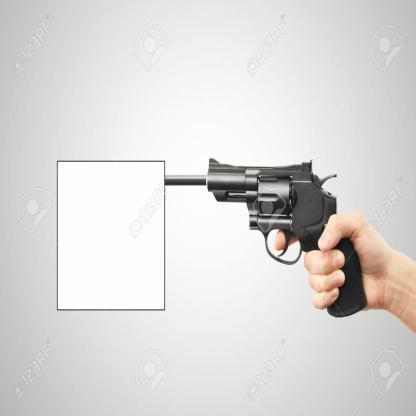gun: (153, 149, 389, 398)
